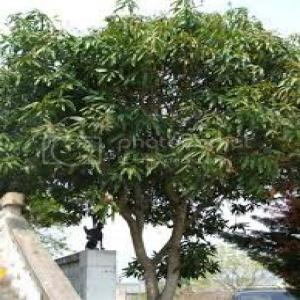Tree: (50, 6, 289, 295)
